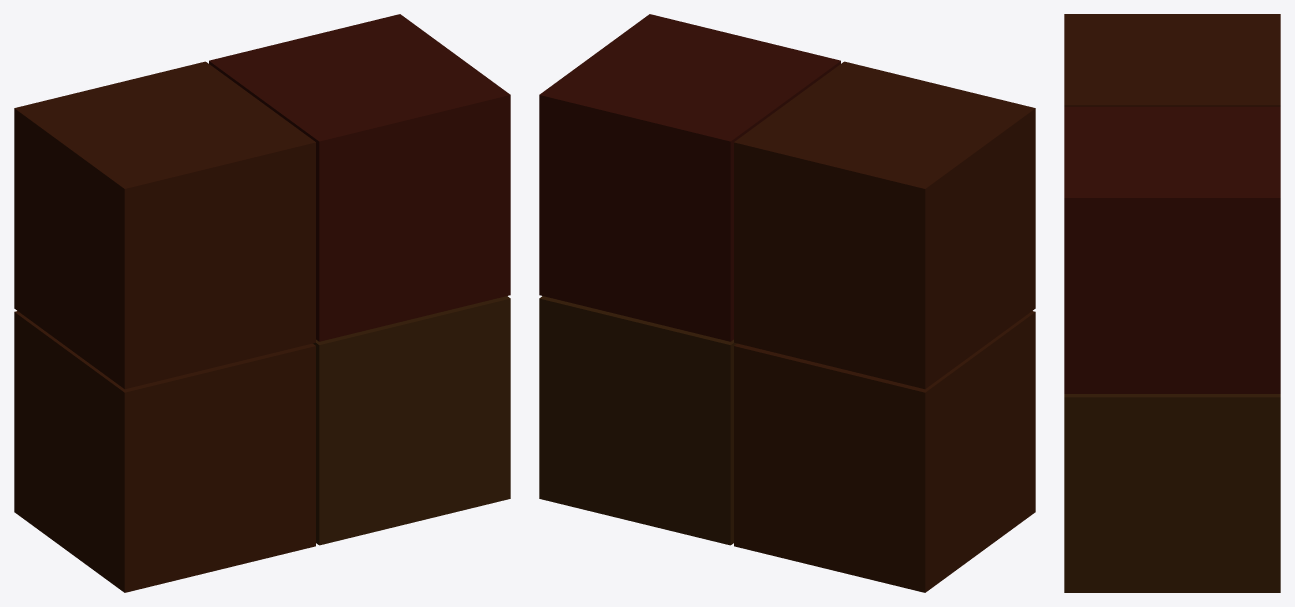
File: brown.glb
The picture shows the model from 3 angles, left to right: view 1: azimuth 30°, elevation 25°; view 2: azimuth 150°, elevation 25°; view 3: azimuth 270°, elevation 25°; orthographic projection. The views are drawn at different scales.
Parts seen in each view (by area): view 1: Cube, Cube.001, Cube.003, Cube.002; view 2: Cube, Cube.001, Cube.003, Cube.002; view 3: Cube.003, Cube.002, Cube.
Boxes of the visible parts, x1,y1,x2,y2 form: Cube: (14,61,315,389); Cube.001: (14,311,315,592); Cube.003: (209,14,510,341); Cube.002: (313,296,510,545); Cube: (734,61,1035,389); Cube.001: (734,311,1035,592); Cube.003: (539,14,840,341); Cube.002: (539,296,736,545); Cube.003: (1064,106,1280,393); Cube.002: (1064,394,1280,592); Cube: (1064,14,1280,106).
Bounding box in the file's own units: 0.0605 × 0.0605 × 0.03.
